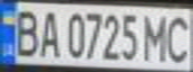0: (63, 8, 84, 59)
2: (103, 9, 124, 61)
5: (118, 10, 142, 62)
7: (81, 8, 103, 60)
A: (33, 6, 63, 57)
B: (6, 4, 42, 58)
C: (163, 11, 193, 63)
M: (139, 11, 172, 63)
